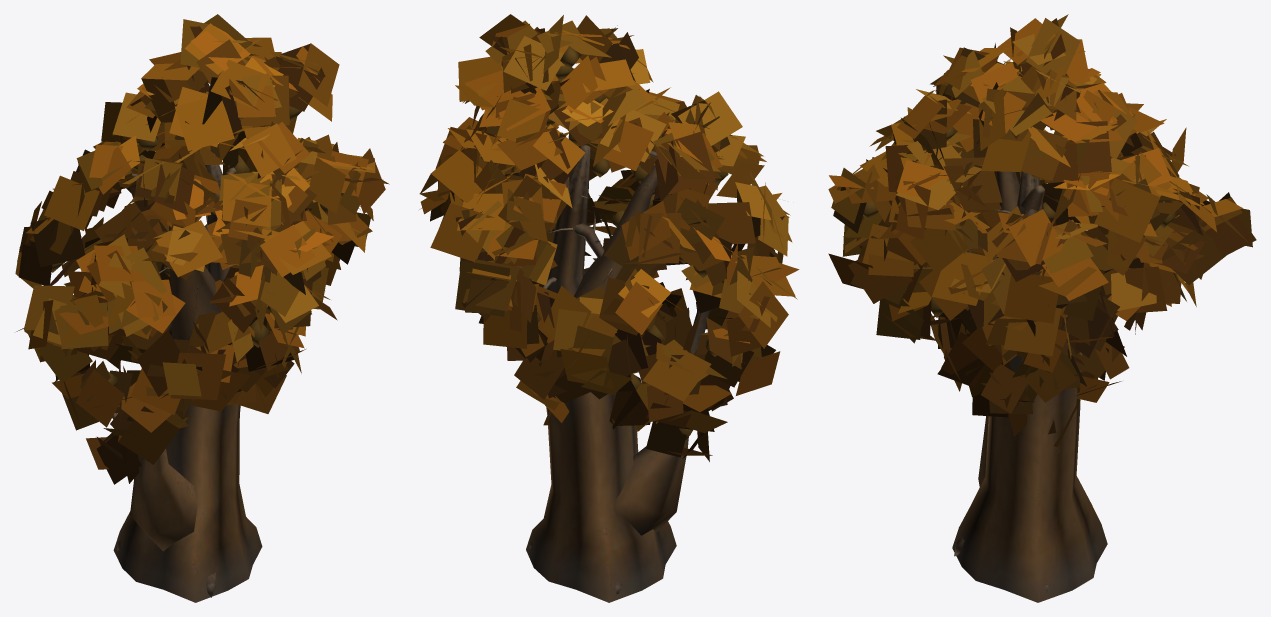
The model's file is tree-09-red.glb.
3 renders of one model, left to right at view 1: azimuth 30°, elevation 25°; view 2: azimuth 150°, elevation 25°; view 3: azimuth 270°, elevation 25°, orthographic. The views are drawn at different scales.
Parts seen in each view (by area): view 1: tree-09-red; view 2: tree-09-red; view 3: tree-09-red.
Part boxes in pixels (x1=…): tree-09-red: x1=15, y1=14, x2=389, y2=602; tree-09-red: x1=419, y1=14, x2=799, y2=602; tree-09-red: x1=828, y1=14, x2=1256, y2=602.
Size of the model in its own units: 5.33 by 8.12 by 5.59.
Materials: 3 (1 with a texture image).
